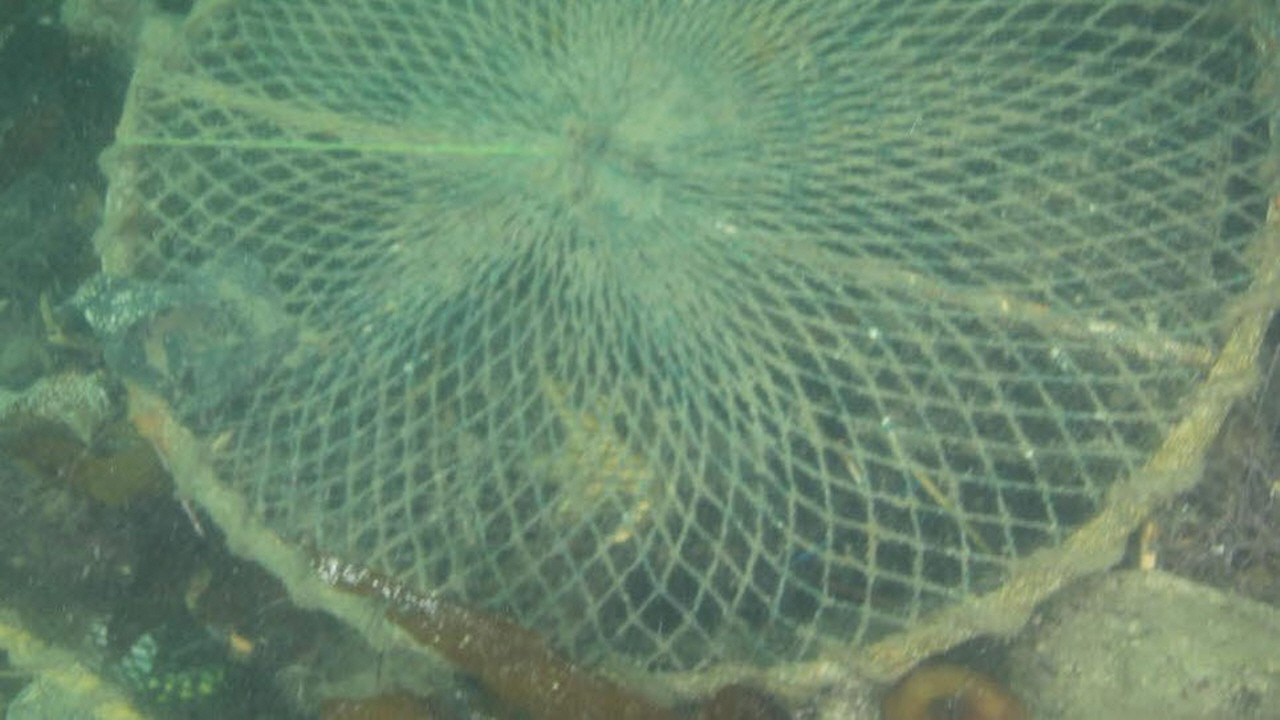circular fish trap: (100, 0, 1280, 700)
